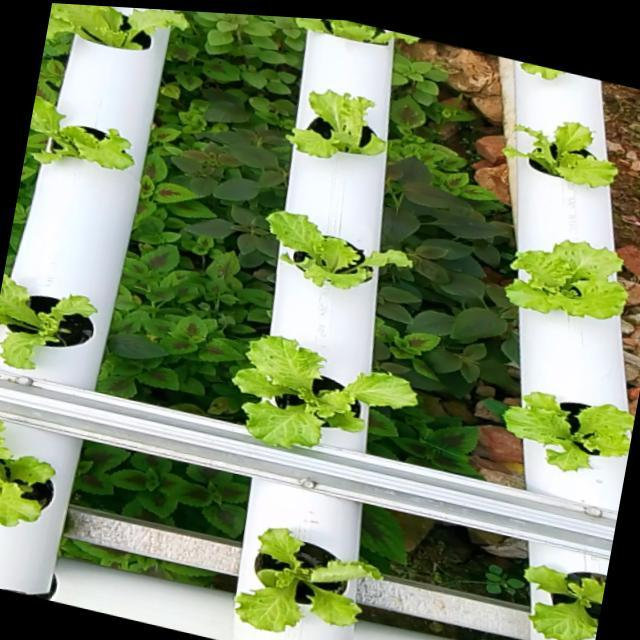Baby: (239, 337, 422, 447), (241, 528, 388, 631), (272, 212, 418, 290), (0, 272, 105, 371), (507, 392, 635, 471), (509, 241, 634, 320), (29, 93, 141, 172), (508, 124, 623, 189), (46, 3, 193, 52), (292, 92, 392, 160), (0, 418, 63, 525), (530, 565, 606, 640)
